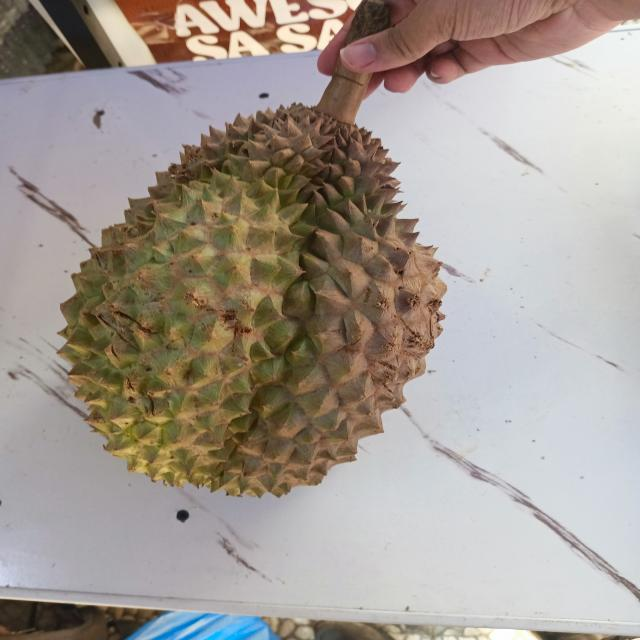mature: (59, 105, 446, 496)
